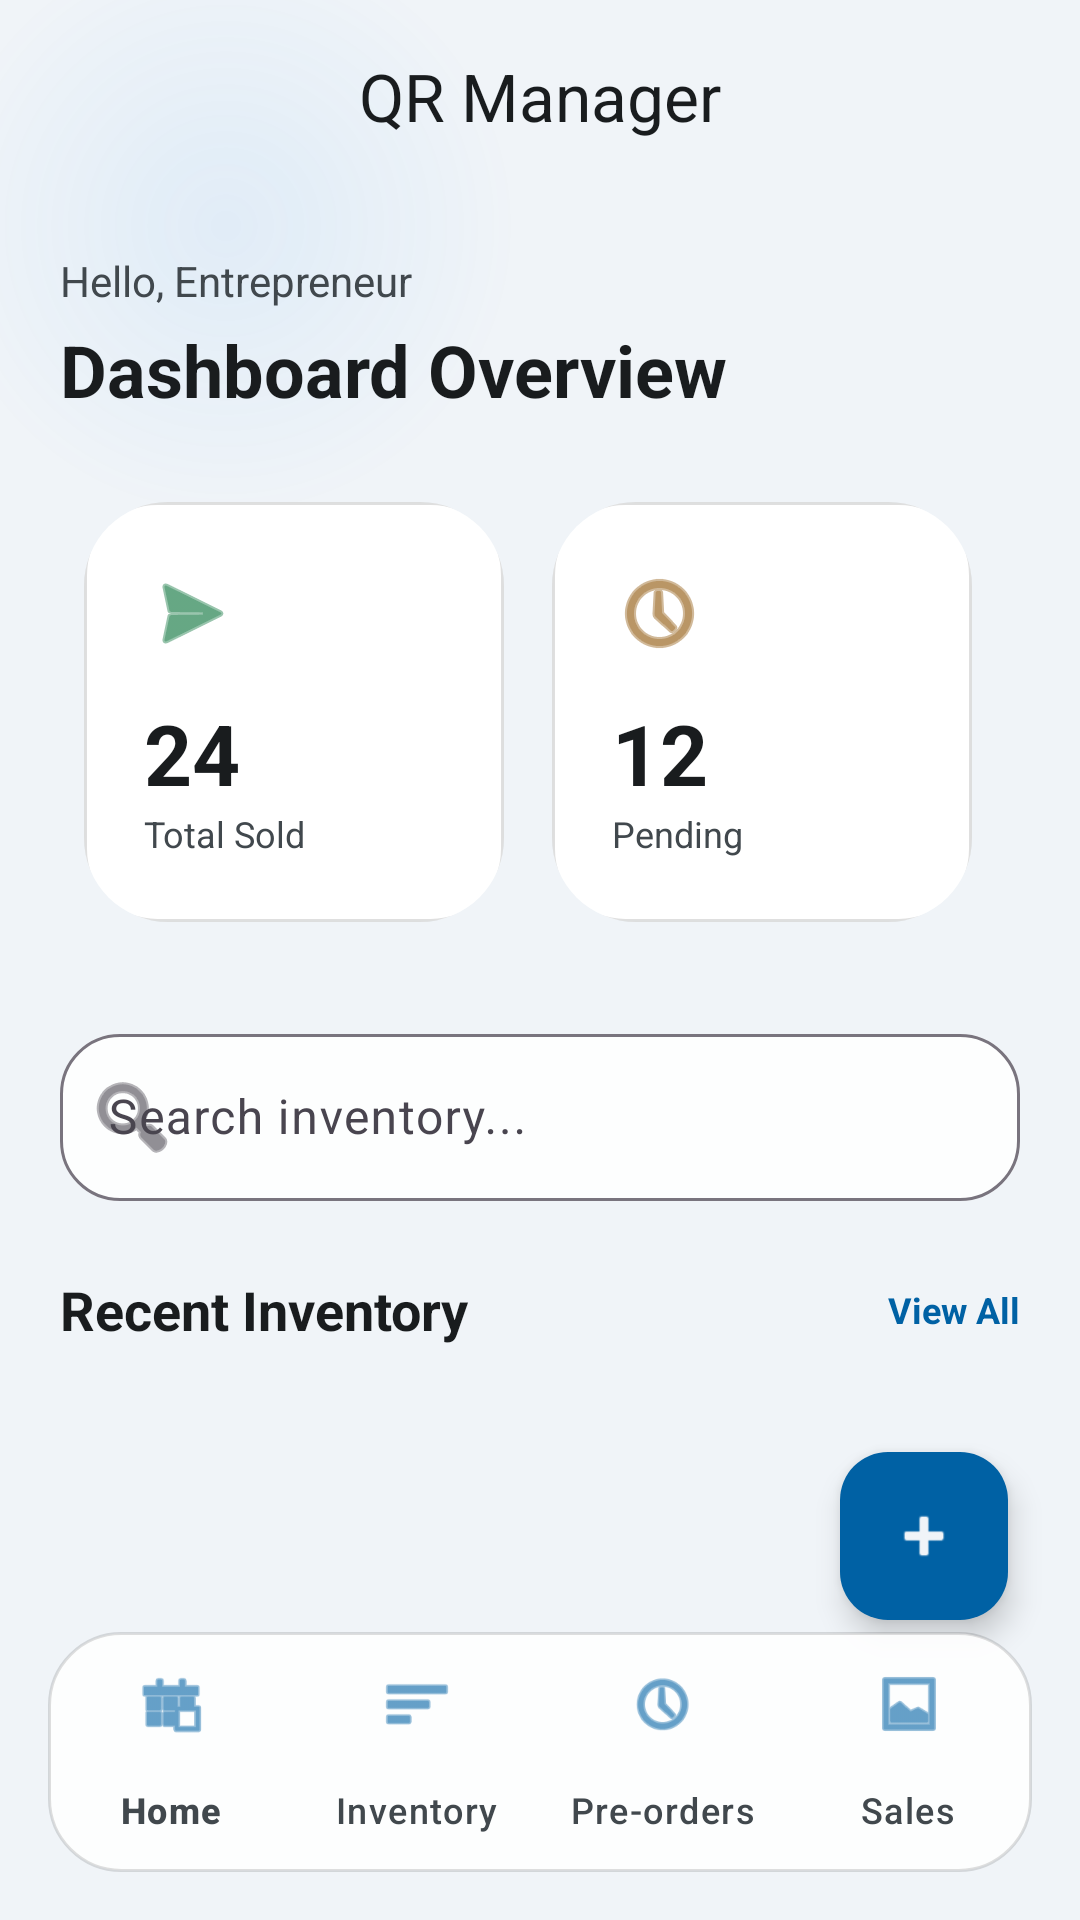

Screen size 1080 x 1920. Icon name, then its center in pixels as point (x, y):
add: point (924, 1536)
recent history: point (659, 613)
send: point (193, 613)
